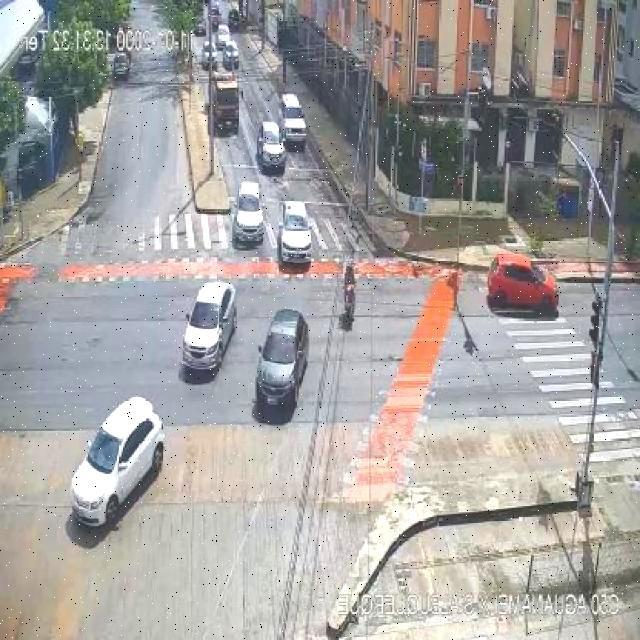Car: (66, 392, 166, 532), (250, 310, 311, 414), (176, 279, 237, 382), (486, 252, 563, 316), (278, 202, 312, 266), (234, 181, 265, 242), (279, 94, 308, 148), (256, 122, 287, 172), (223, 40, 240, 70), (202, 41, 218, 68), (216, 23, 233, 47)
Truck: (210, 68, 243, 132)
